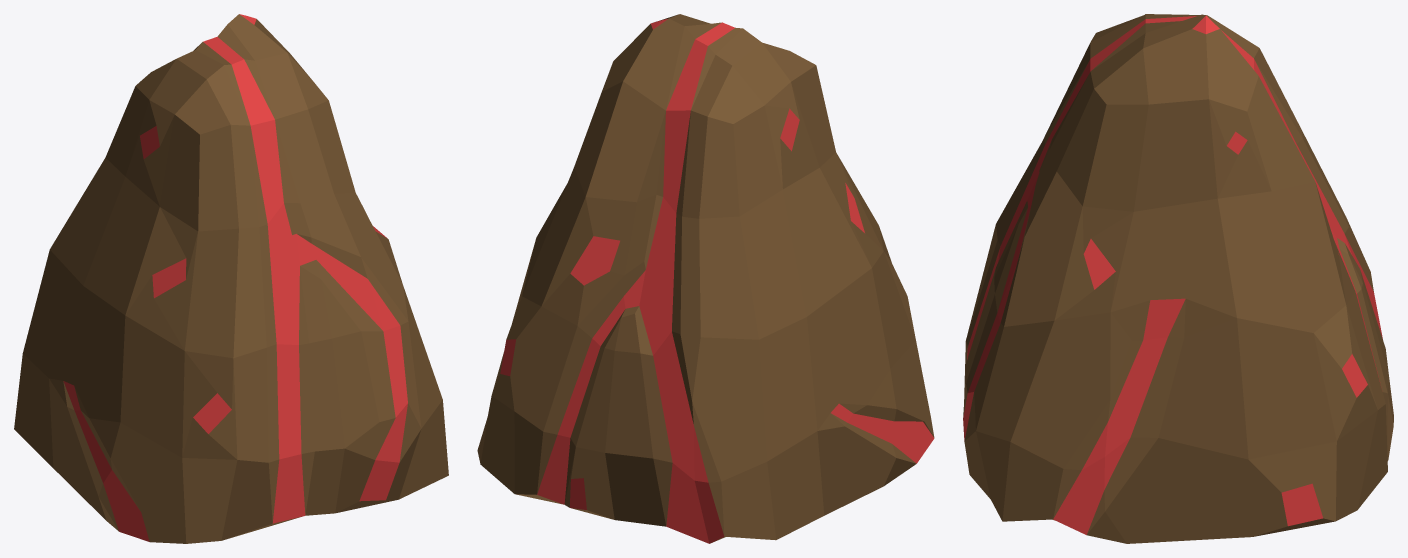
File: CrimsoniteRock.glb
3 renders of one model, left to right at view 1: azimuth 30°, elevation 25°; view 2: azimuth 150°, elevation 25°; view 3: azimuth 270°, elevation 25°, orthographic. The views are drawn at different scales.
Visible parts, largest first — view 1: CrimsoniteRock; view 2: CrimsoniteRock; view 3: CrimsoniteRock.
Part boxes in pixels (bbox=[...]): CrimsoniteRock: bbox=[14, 14, 448, 543]; CrimsoniteRock: bbox=[477, 14, 934, 543]; CrimsoniteRock: bbox=[963, 14, 1393, 543].
Bounding box in the file's own units: 0.6998 × 0.9335 × 0.7637.
